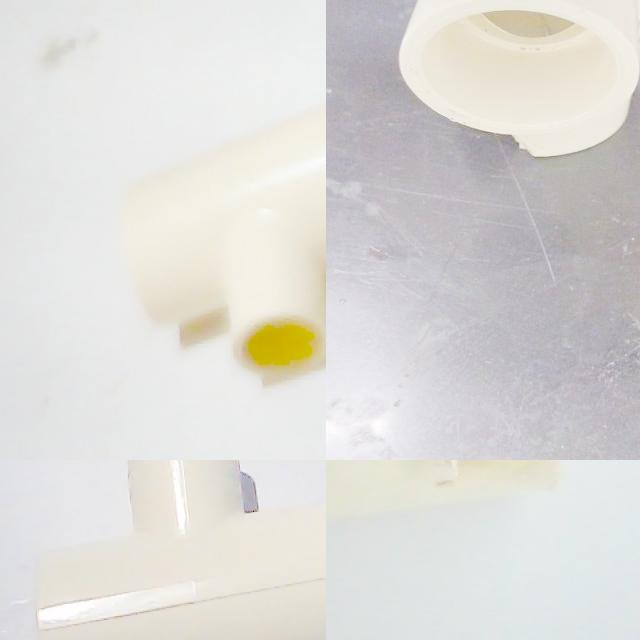Defective: (448, 460, 556, 485)
T Joint: (123, 103, 326, 388), (34, 460, 326, 640), (326, 460, 563, 526)
